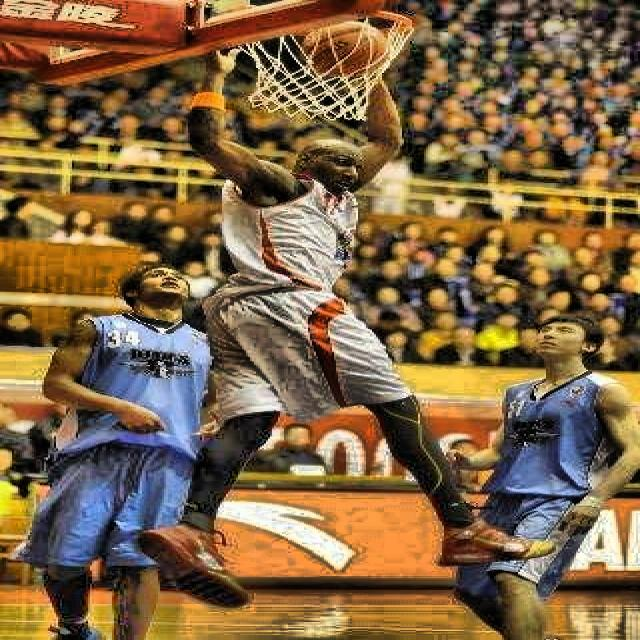rim: (223, 8, 415, 116)
